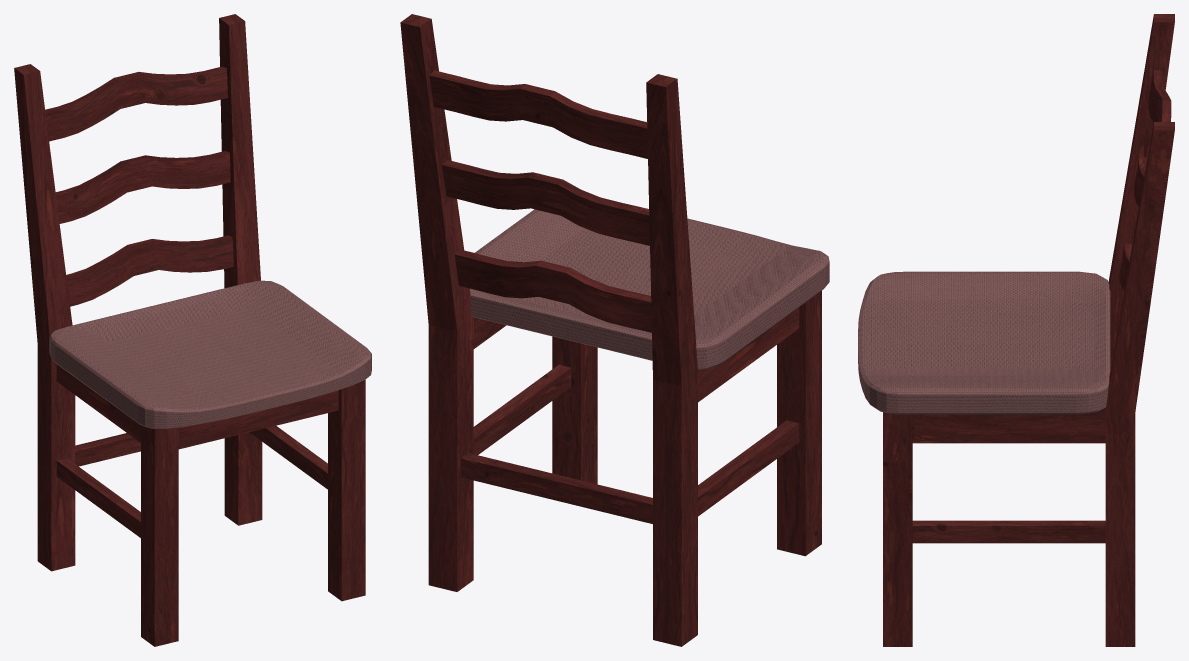
File: Dining Chair3.glb
3 views of the same model, side by side, from view 1: azimuth 30°, elevation 25°; view 2: azimuth 150°, elevation 25°; view 3: azimuth 270°, elevation 25° (orthographic). The views are drawn at different scales.
Parts seen in each view (by area): view 1: Material2 (×2); view 2: Material2 (×2); view 3: Material2 (×2).
Part boxes in pixels (x1,y1,x2,y2): Material2 (×2): [14, 14, 371, 646]; Material2 (×2): [400, 14, 829, 646]; Material2 (×2): [858, 14, 1174, 646].
Bounding box in the file's own units: 19.33 × 38.57 × 21.33.
Materials: 2 (2 with a texture image).
